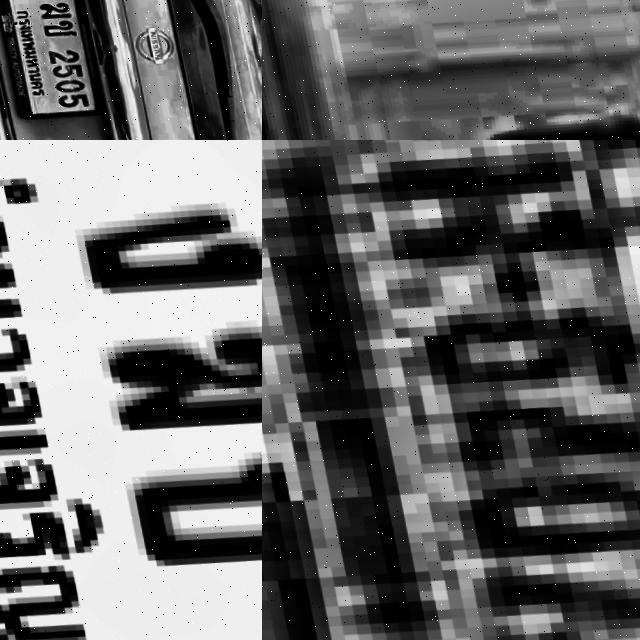license-plate: (262, 140, 640, 640), (0, 140, 262, 640), (262, 0, 640, 140), (0, 0, 98, 120)
